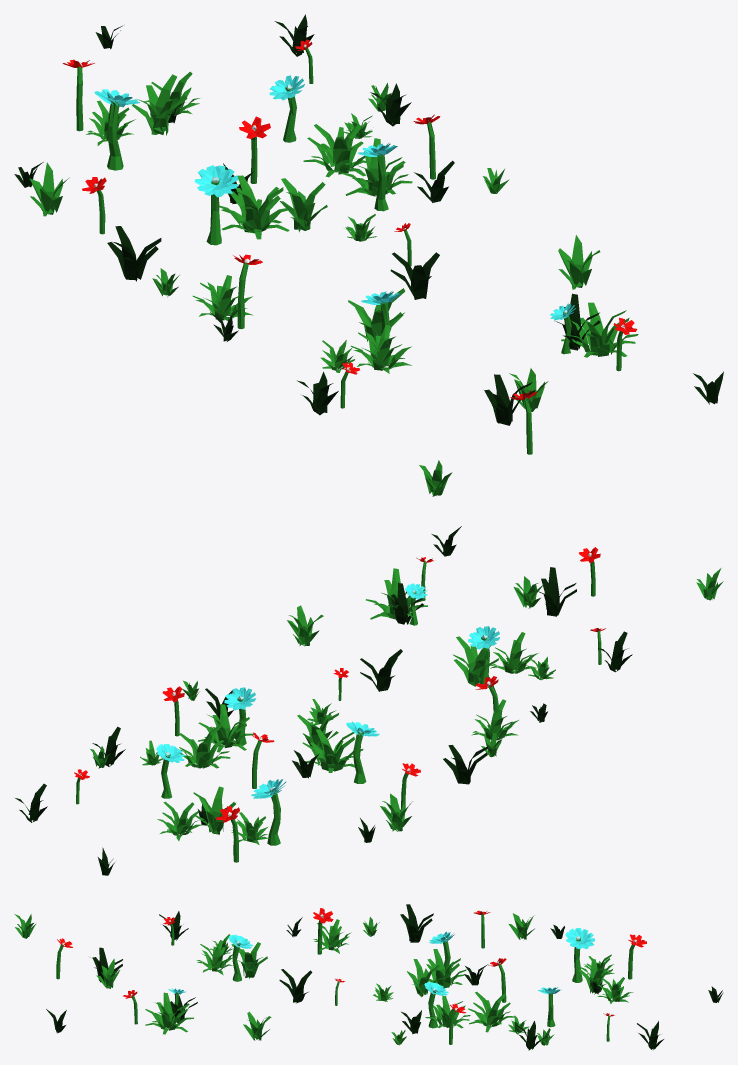
The model's file is Grass_scatter_1.fbx.
3 renders of one model, top to bottom at view 1: azimuth 30°, elevation 25°; view 2: azimuth 150°, elevation 25°; view 3: azimuth 270°, elevation 25°, orthographic. The views are drawn at different scales.
Visible parts, largest first — view 1: Grass_scatter; view 2: Grass_scatter; view 3: Grass_scatter.
Boxes of the visible parts, left/top/right/bottom form: Grass_scatter: left=14, top=14, right=723, bottom=496; Grass_scatter: left=15, top=526, right=723, bottom=875; Grass_scatter: left=14, top=904, right=723, bottom=1050.
Bounding box in the file's own units: 3.56 × 0.6776 × 8.76.
